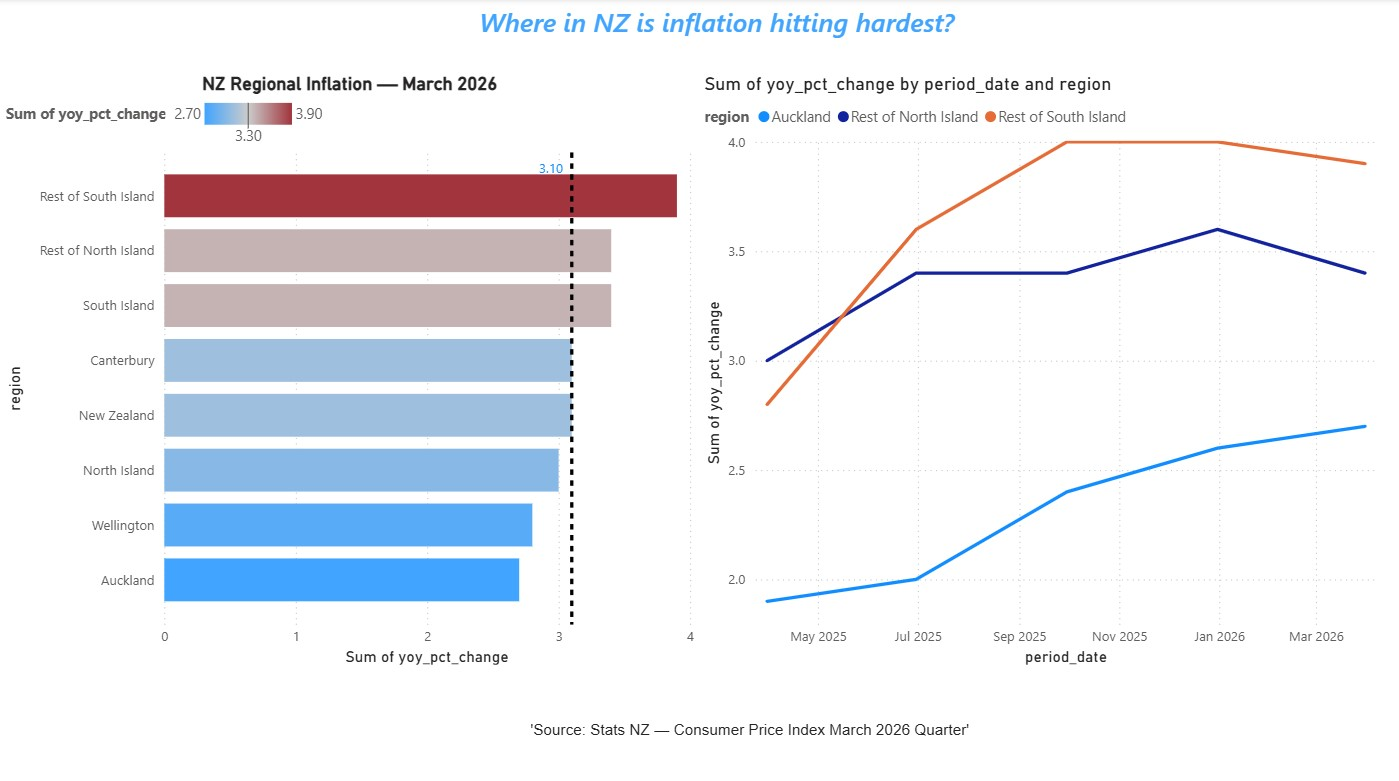

The dashboard page shown, as its layout file describes it:
{"tool":"powerbi","page":{"name":"Regional Story","canvas":[1280,720],"ordinal":2},"visuals":[{"type":"clusteredBarChart","title":"NZ Regional Inflation — March 2026","fields":{"Category":["cpi_regional.region"],"Y":["Sum(cpi_regional.yoy_pct_change)"]},"box":[0,68,640,546],"z":0},{"type":"lineChart","fields":{"Y":["Sum(cpi_regional.yoy_pct_change)"],"Series":["cpi_regional.region"],"Category":["cpi_regional.period_date"]},"box":[640,68,640,546],"z":1000},{"type":"textbox","box":[480,654,516,44],"z":2000},{"type":"textbox","box":[434,0,478,68],"z":2001}]}

Visuals, with their boxes in screenshot pixels (x1, y1, x2, y2), scaled from the page's 1280x720 canvas onto the 1399x781 screenshot:
"NZ Regional Inflation — March 2026" clusteredBarChart: 0/74/700/666
lineChart - Sum(cpi_regional.yoy_pct_change) x cpi_regional.region: 700/74/1398/666
textbox: 525/709/1089/757
textbox: 474/0/997/74
